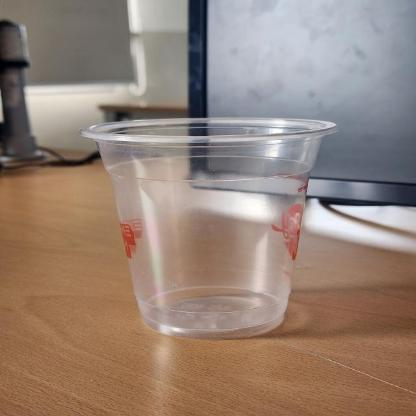Plastic Cup: (82, 117, 336, 342)
